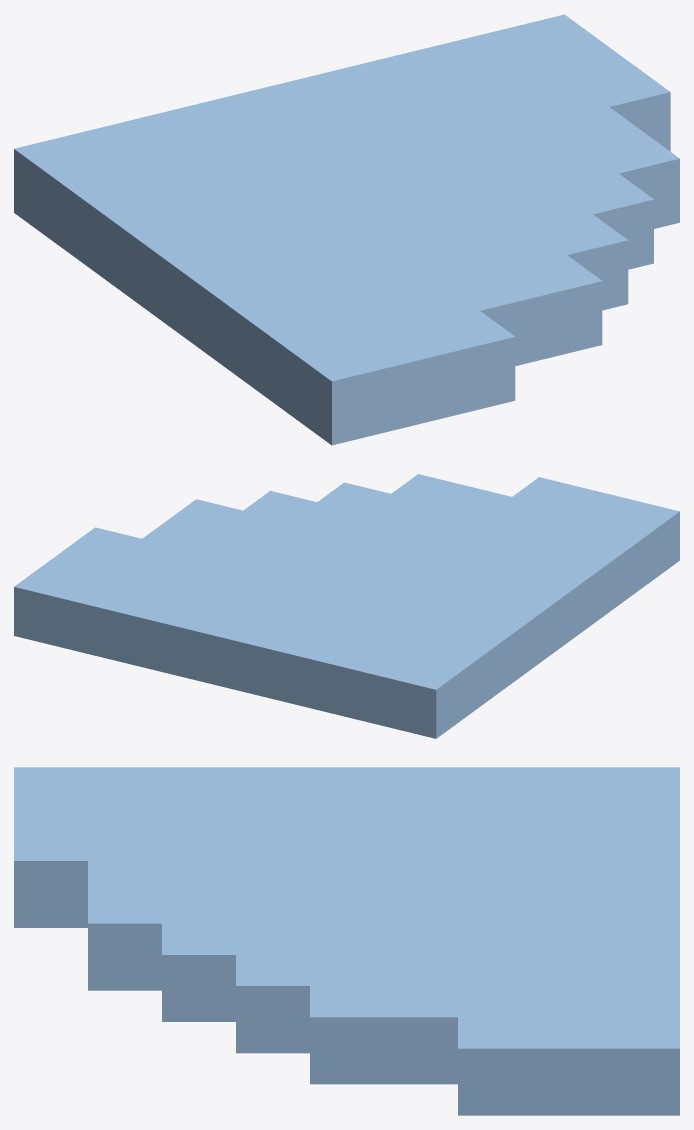
File: grass_circel.obj
3 views of the same model, one above another, from view 1: azimuth 30°, elevation 25°; view 2: azimuth 150°, elevation 25°; view 3: azimuth 270°, elevation 25° (orthographic). The views are drawn at different scales.
Bounding box in the file's own units: 0.9 × 0.1 × 0.9.
1 material, 1 textured.
